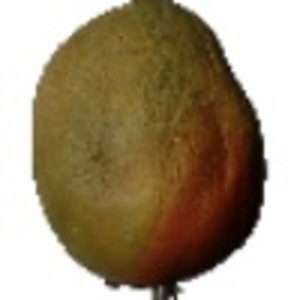mamão: (24, 5, 278, 290)
